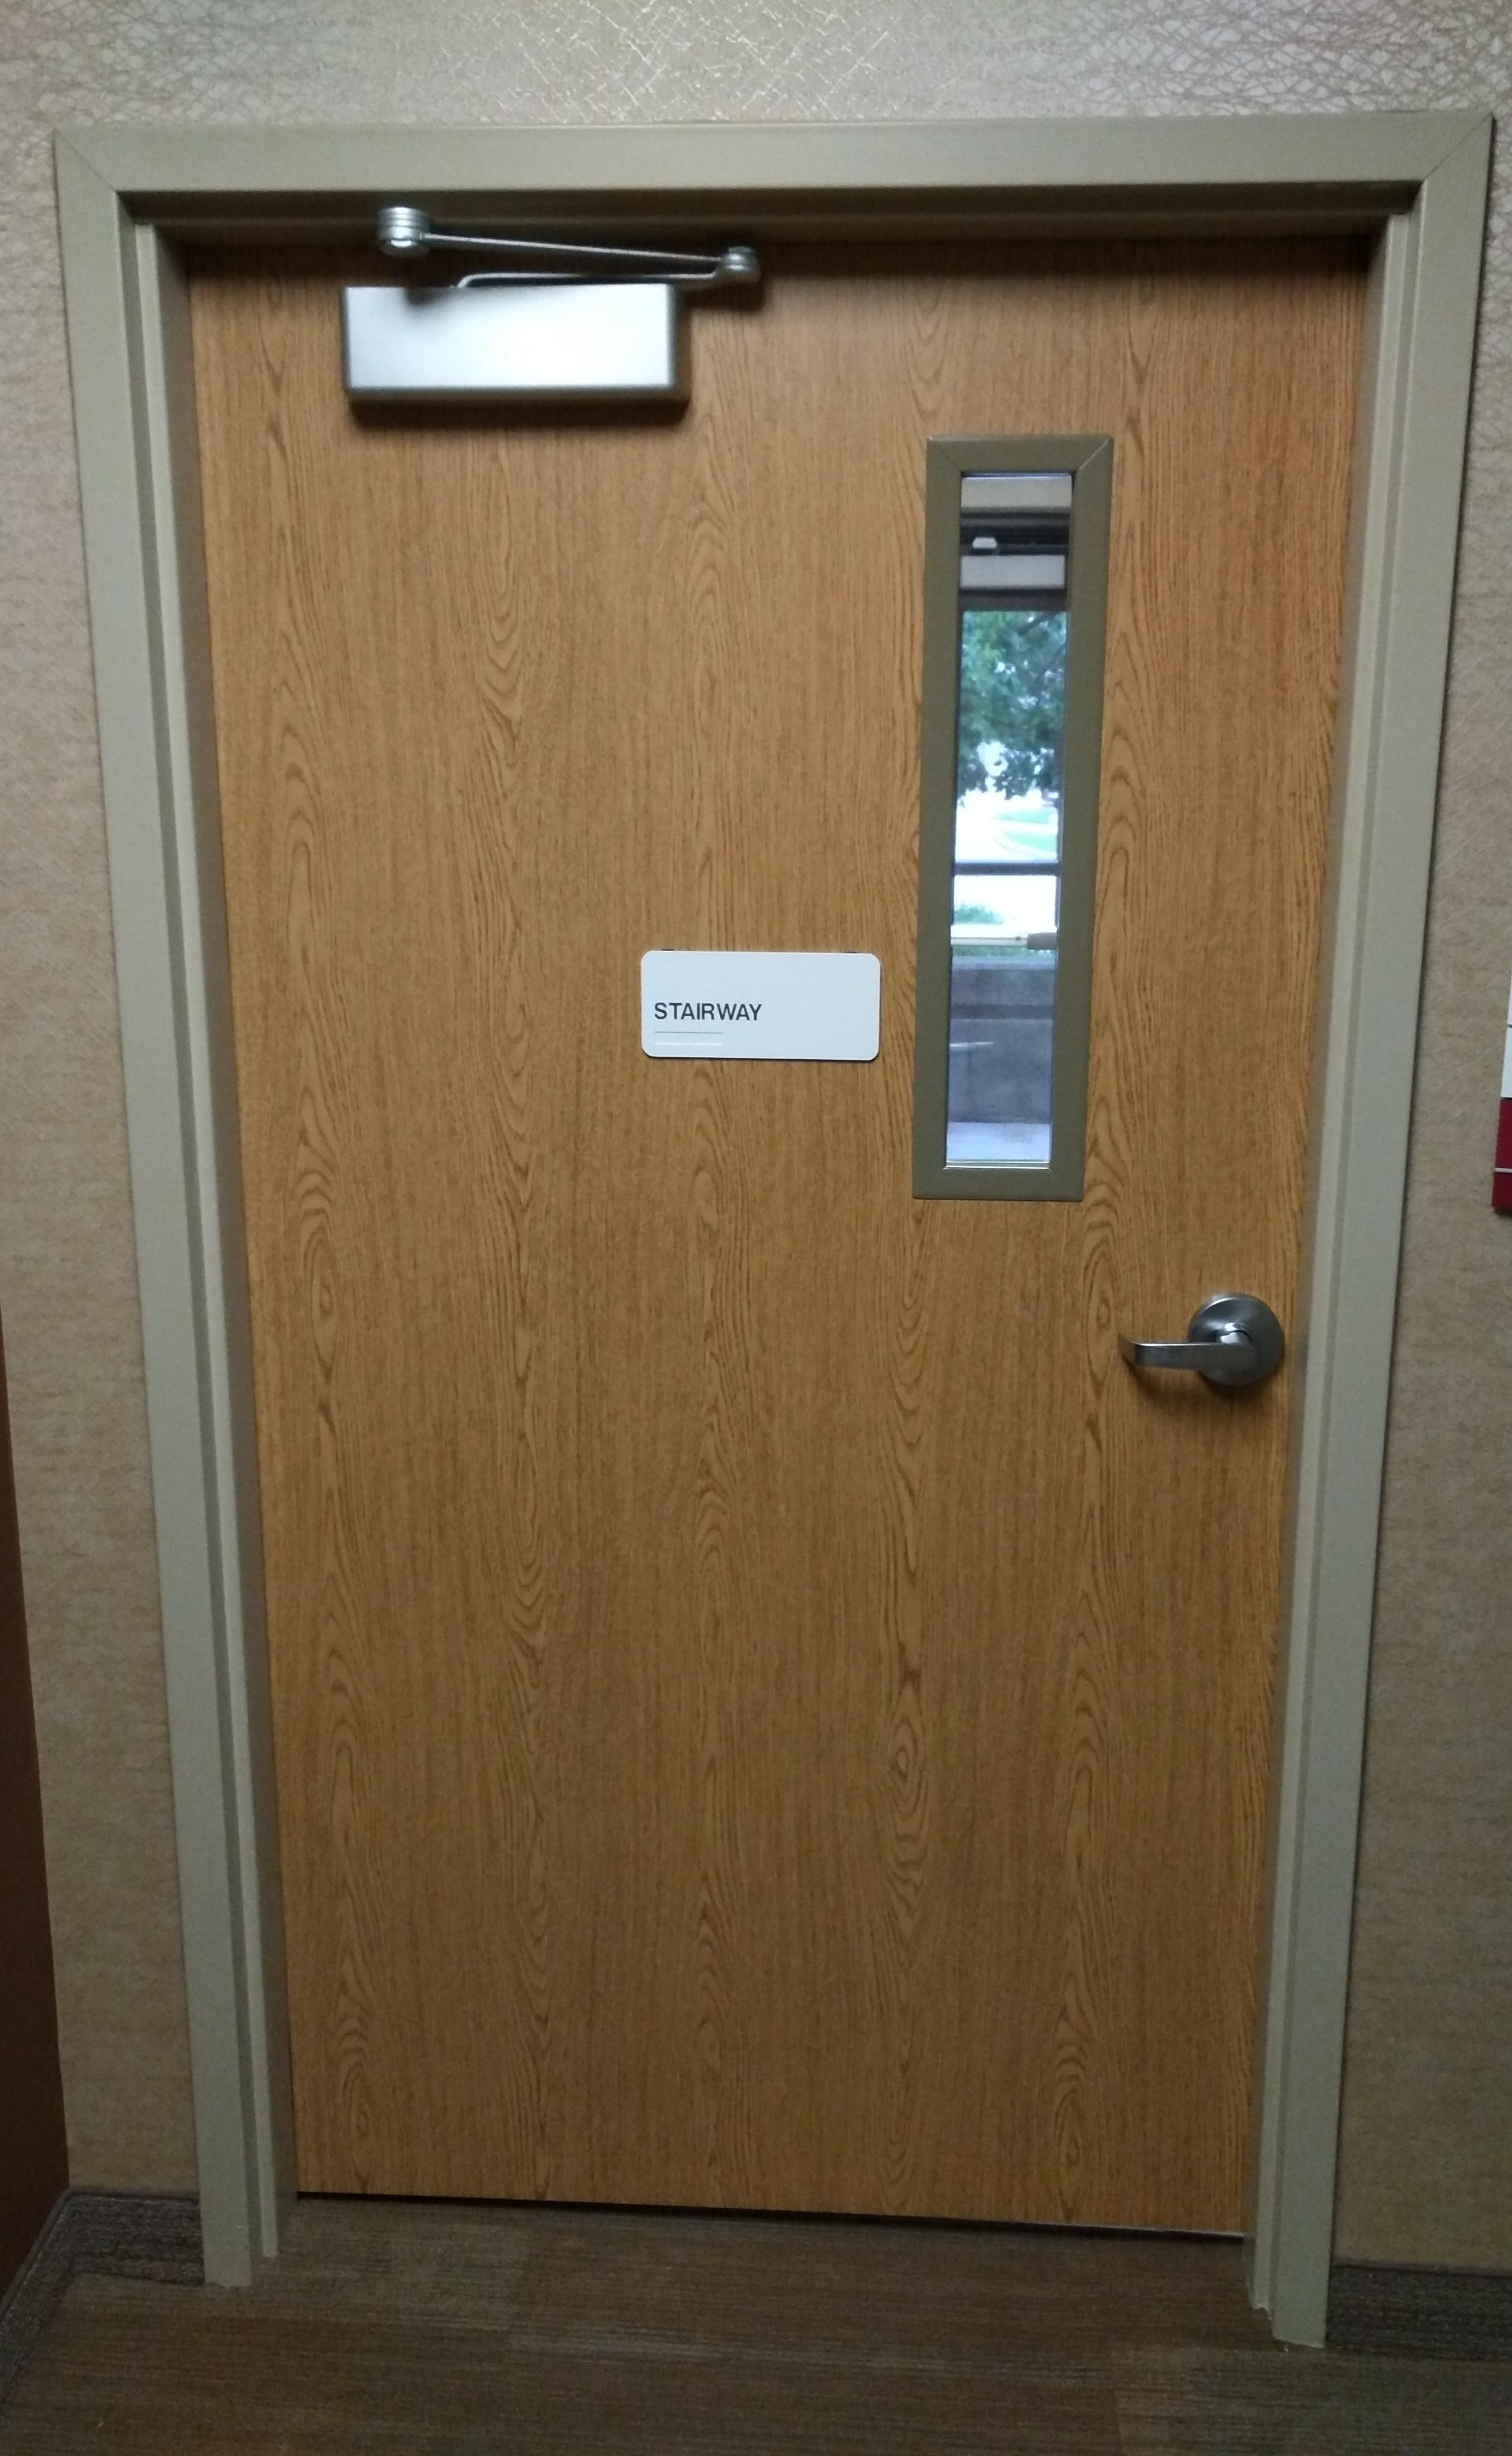door: (109, 163, 1396, 2263)
